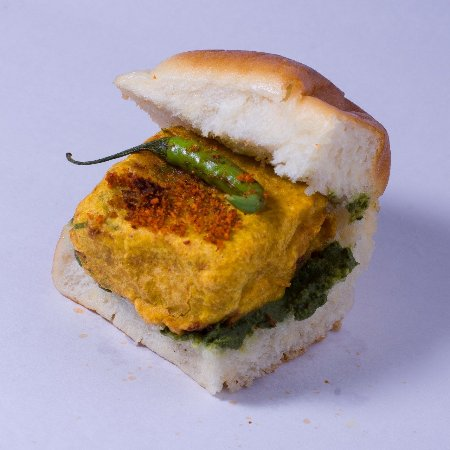vada pav: (170, 58, 329, 360)
